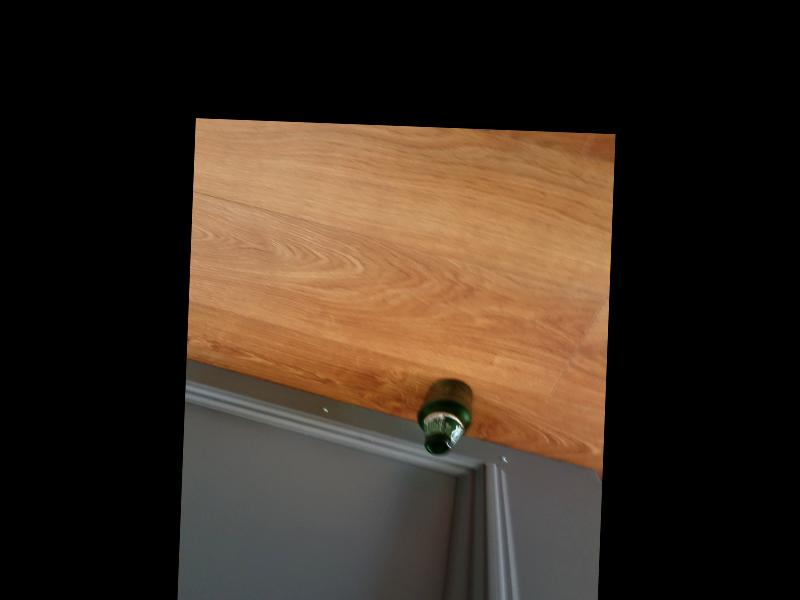Beer: (417, 378, 472, 455)
